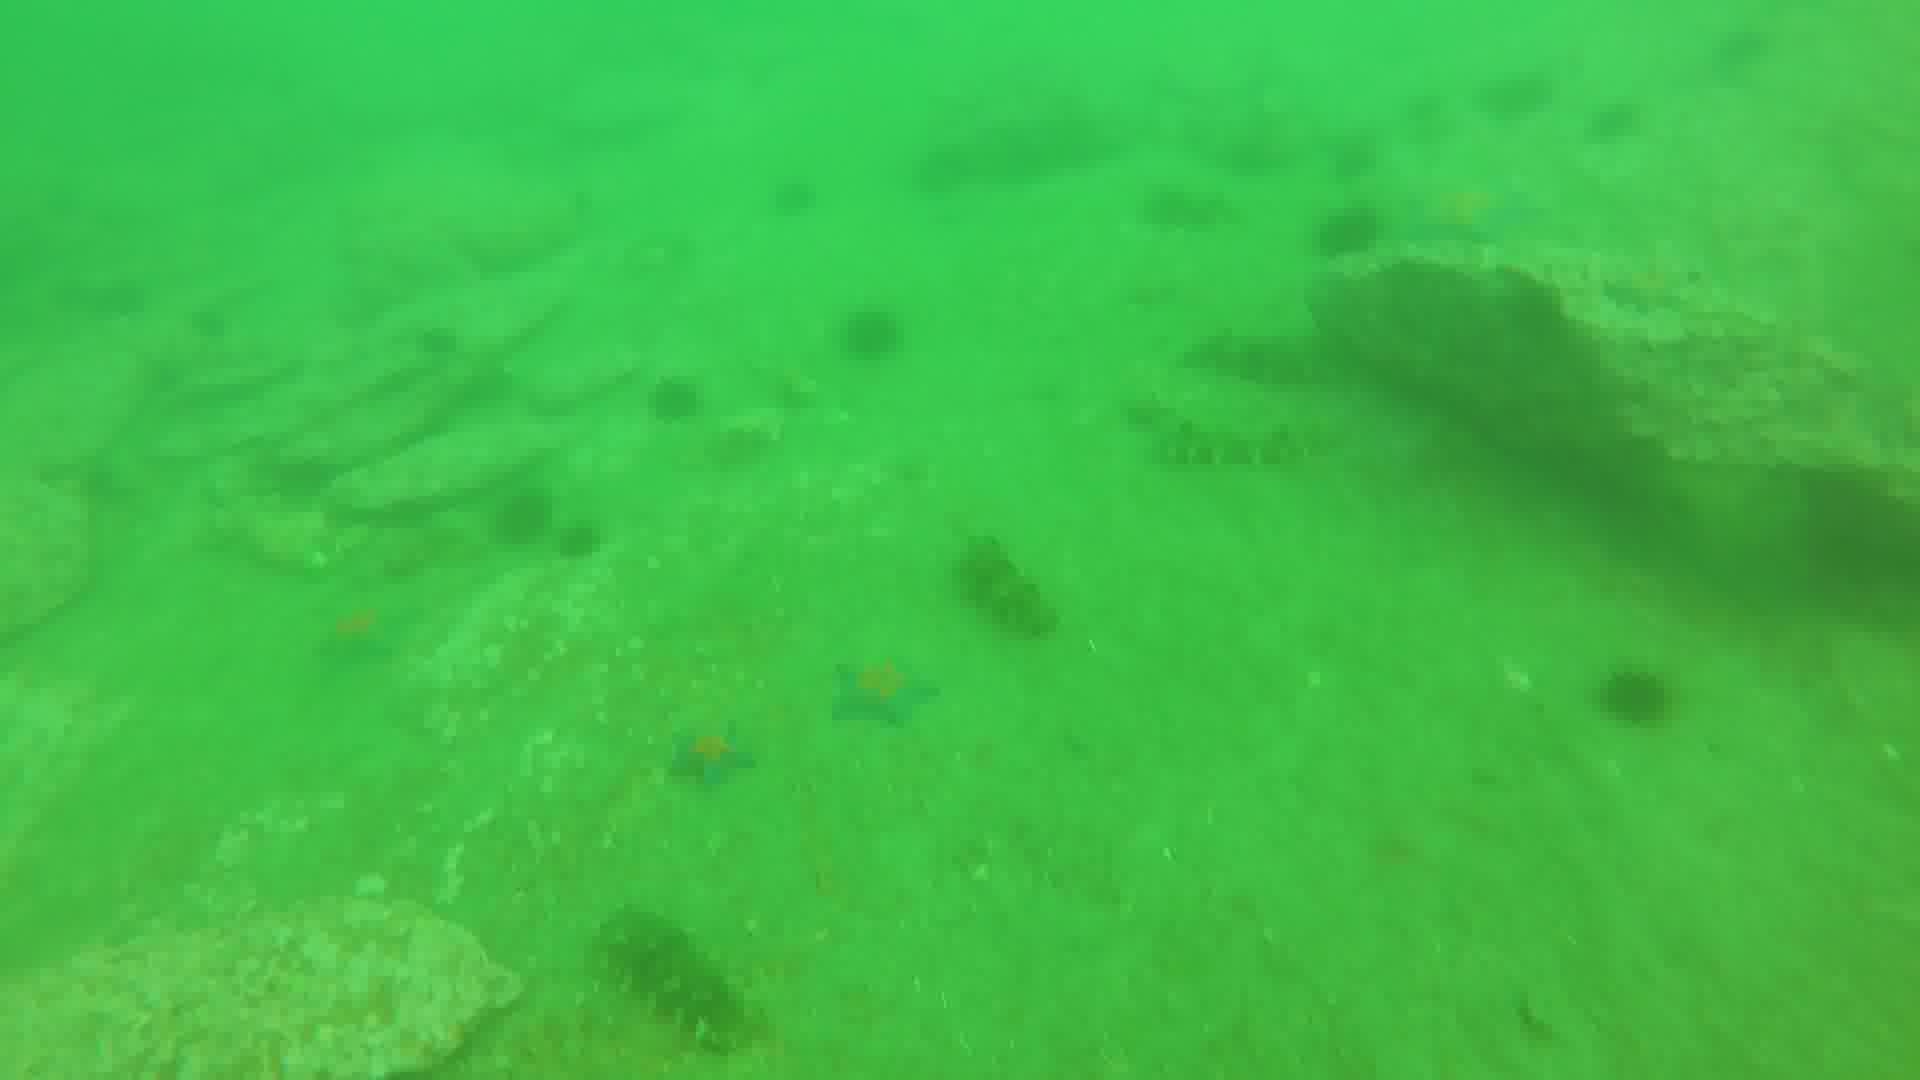echinus: (1592, 670, 1676, 720), (1313, 203, 1387, 258), (833, 311, 909, 363), (491, 491, 554, 542), (647, 373, 704, 425), (770, 177, 820, 224), (541, 524, 607, 559)
holothurian: (593, 913, 758, 1051), (957, 535, 1058, 638), (1156, 413, 1316, 471)
starfish: (1404, 171, 1538, 244), (833, 659, 942, 724), (310, 609, 421, 670), (675, 720, 758, 789)
